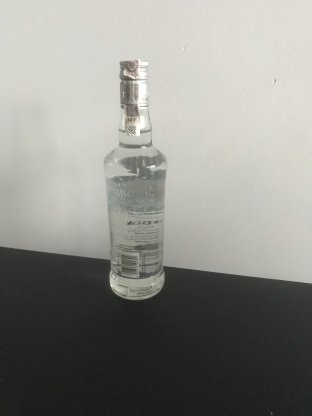nakretka: (118, 57, 151, 111)
